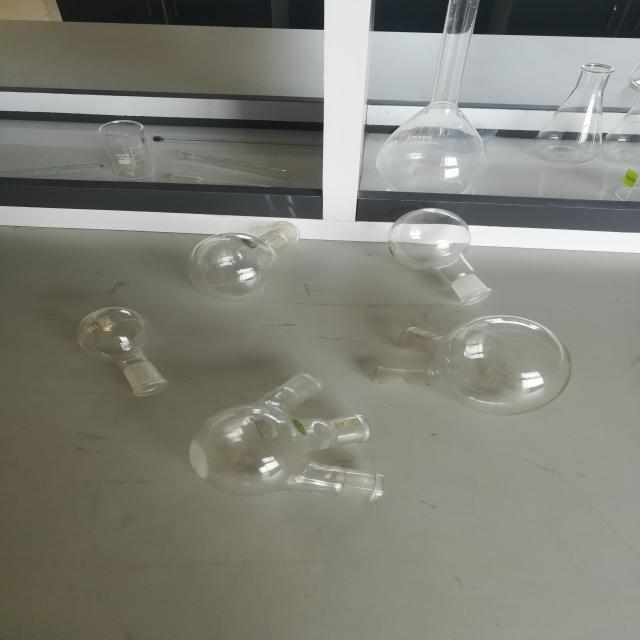Round_Bottom_Flask_Borosilicate_Glass_1_Neck: (364, 180, 528, 312), (179, 184, 323, 314), (56, 288, 177, 410)
Round_Bottom_Flask_Borosilicate_Glass_2_Neck: (351, 286, 605, 425)
Round_Bottom_Flask_Borosilicate_Glass_3_Neck: (170, 345, 420, 523)
